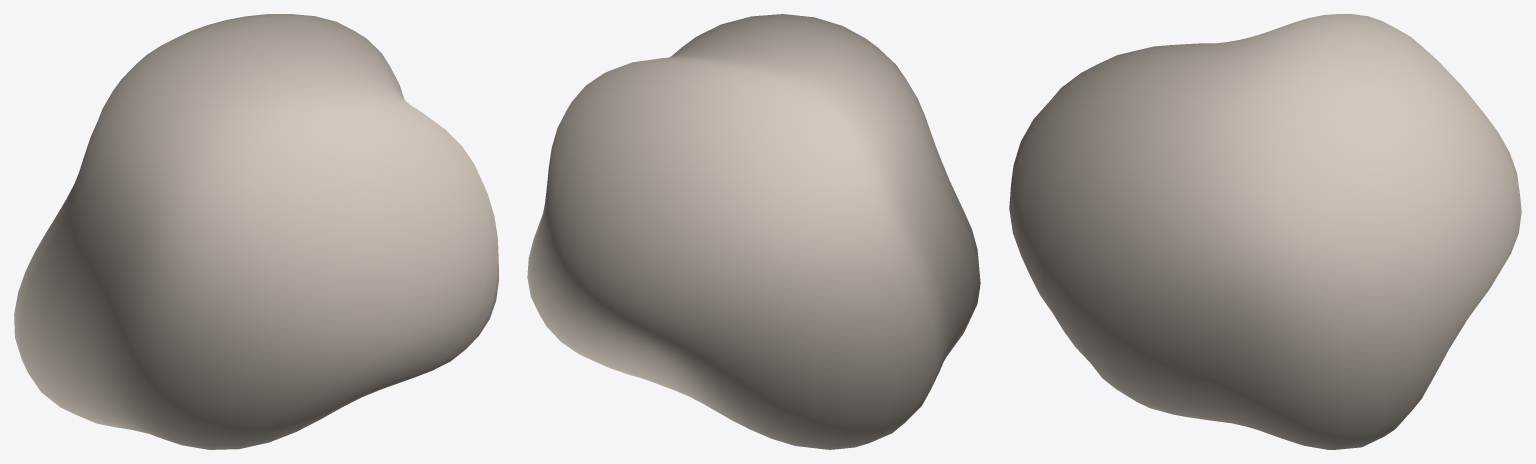
The model's file is deimos_draco.glb.
The picture shows the model from 3 angles, left to right: view 1: azimuth 30°, elevation 25°; view 2: azimuth 150°, elevation 25°; view 3: azimuth 270°, elevation 25°; orthographic projection. The views are drawn at different scales.
Parts seen in each view (by area): view 1: DeimosNode; view 2: DeimosNode; view 3: DeimosNode.
Part boxes in pixels (x1=…): DeimosNode: x1=14, y1=14, x2=498, y2=449; DeimosNode: x1=527, y1=14, x2=980, y2=449; DeimosNode: x1=1009, y1=14, x2=1521, y2=449.
Bounding box in the file's own units: 1.93 × 1.63 × 1.98.
